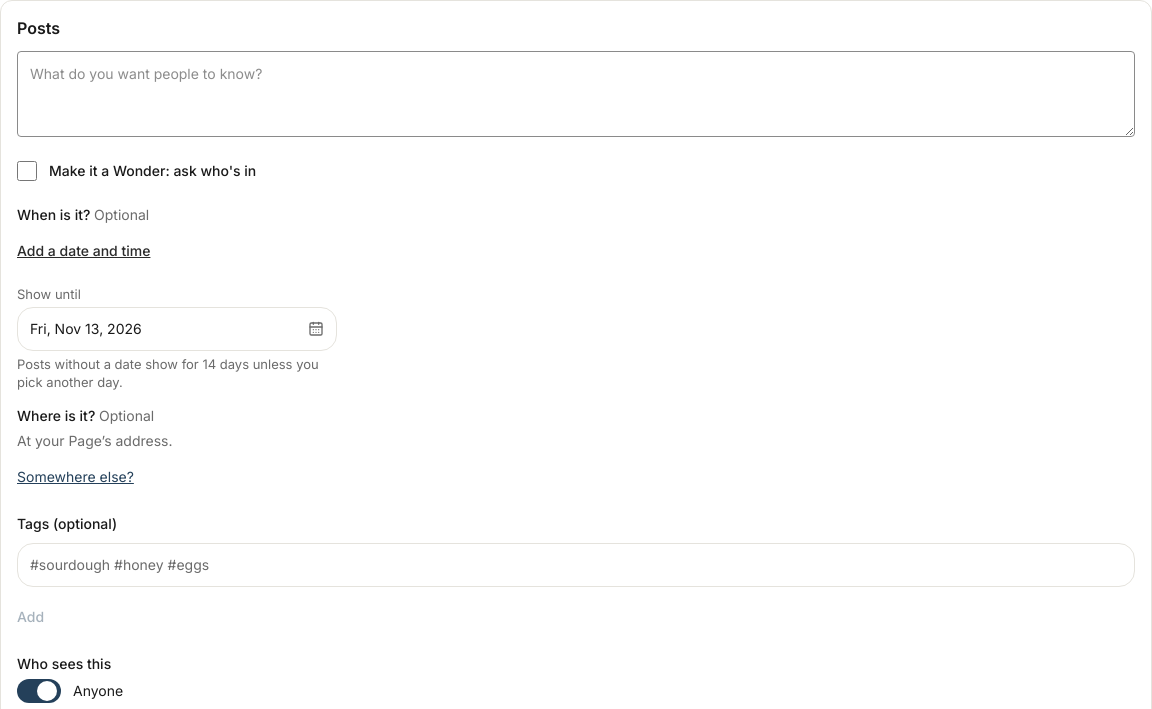
Test: who sees this › names the people, never a kind of post
The image size is (1152, 709).
Click the switch with test id "announce-audience-switch". click: click(39, 691)
box: left=17, top=679, right=61, bottom=703
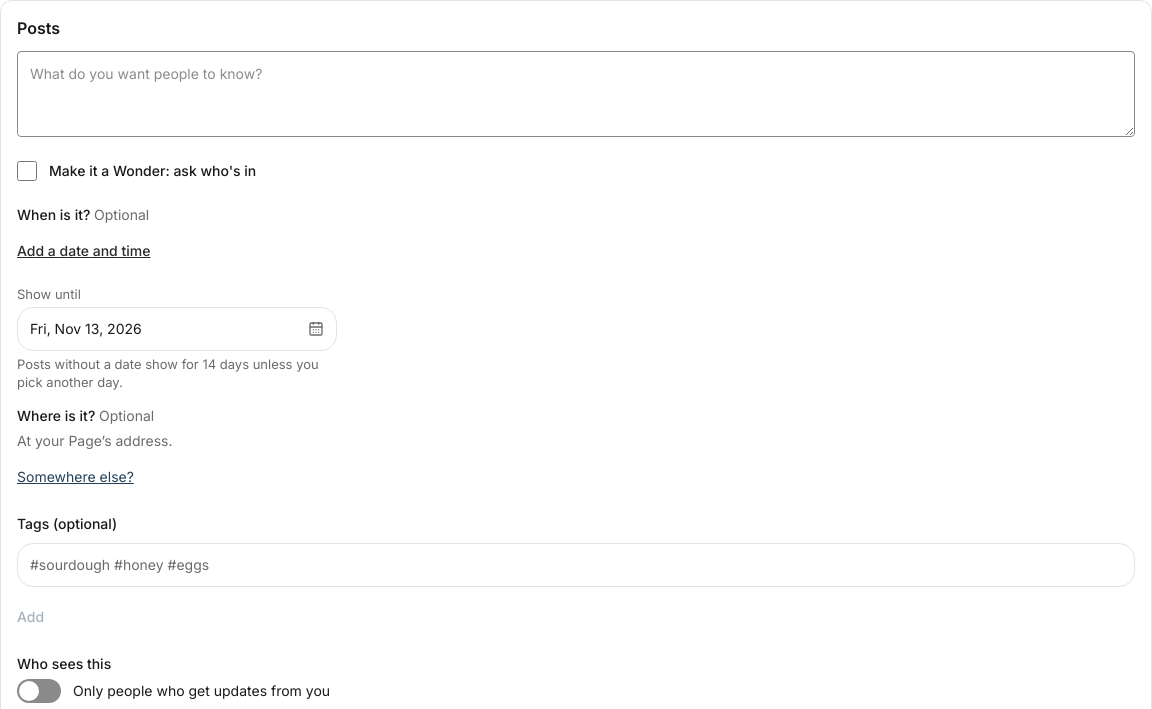
Check: the text with test id "announce-audience-label" reads "Only people who get updates from you", box left=73, top=682, right=330, bottom=699
